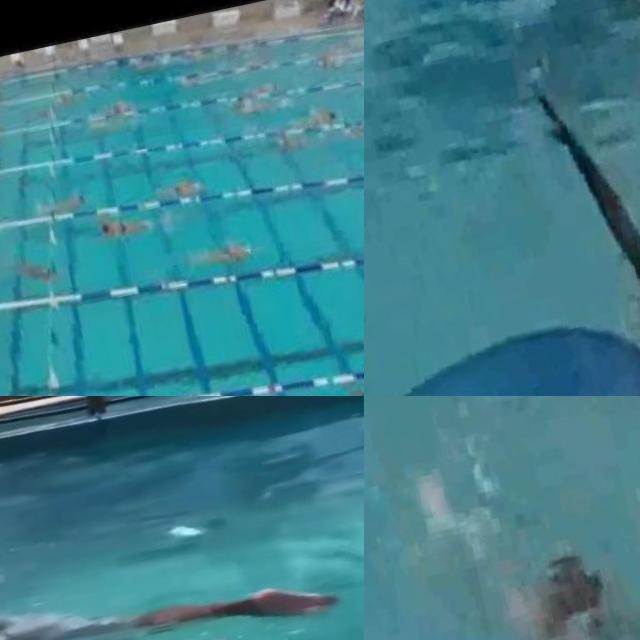drowning: (533, 12, 640, 396), (444, 466, 640, 640)
swimming: (0, 415, 356, 640), (364, 278, 527, 396), (188, 233, 258, 288), (154, 170, 206, 208), (235, 70, 288, 106), (98, 206, 146, 244), (8, 254, 58, 290), (41, 186, 88, 221), (302, 100, 344, 139), (93, 93, 134, 131), (339, 111, 364, 147)
